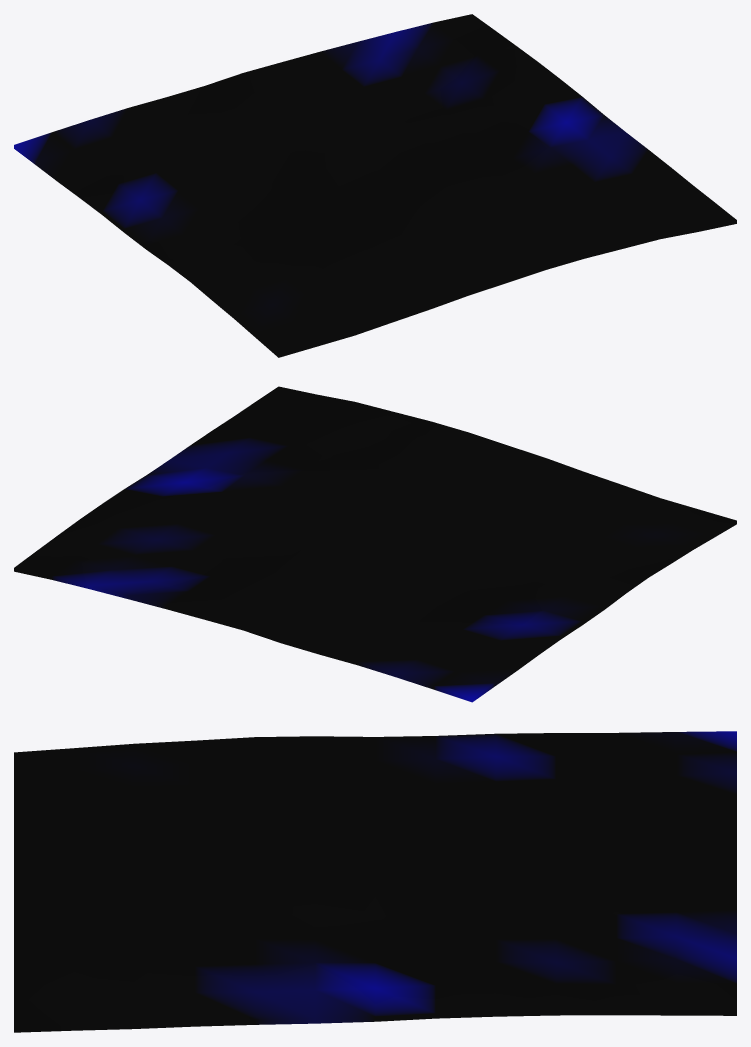
The model's file is coast_13_3.glb.
The picture shows the model from 3 angles, top to bottom: view 1: azimuth 30°, elevation 25°; view 2: azimuth 150°, elevation 25°; view 3: azimuth 270°, elevation 25°; orthographic projection. The views are drawn at different scales.
Parts seen in each view (by area): view 1: terrain; view 2: terrain; view 3: terrain.
Part boxes in pixels (bbox=[...]): terrain: bbox=[14, 14, 736, 357]; terrain: bbox=[14, 386, 736, 702]; terrain: bbox=[14, 731, 736, 1032].
Size of the model in its own units: 192 by 15.83 by 192.
